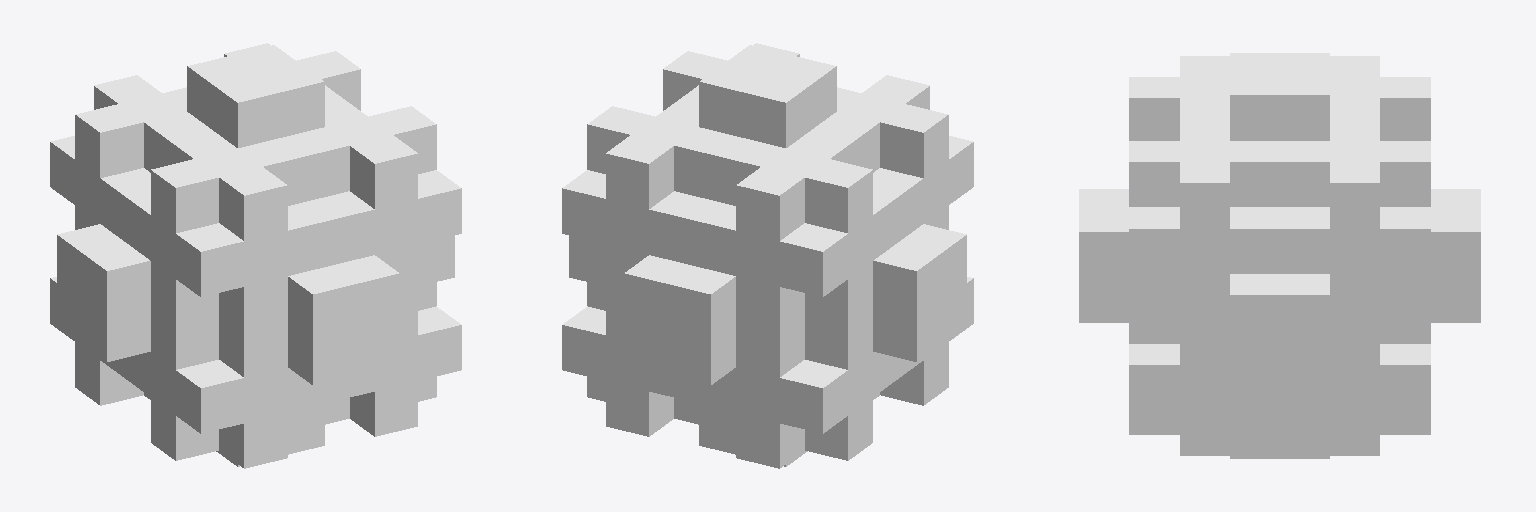
Rendered from Explosion_2.obj.
3 views of the same model, side by side, from view 1: azimuth 30°, elevation 25°; view 2: azimuth 150°, elevation 25°; view 3: azimuth 270°, elevation 25° (orthographic).
Parts seen in each view (by area): view 1: object 1; view 2: object 1; view 3: object 1.
Boxes of the visible parts, <box> form: object 1: <box>50,43,461,468</box>; object 1: <box>562,43,973,468</box>; object 1: <box>1079,53,1480,458</box>.
Bounding box in the file's own units: 0.8 × 0.8 × 0.8.